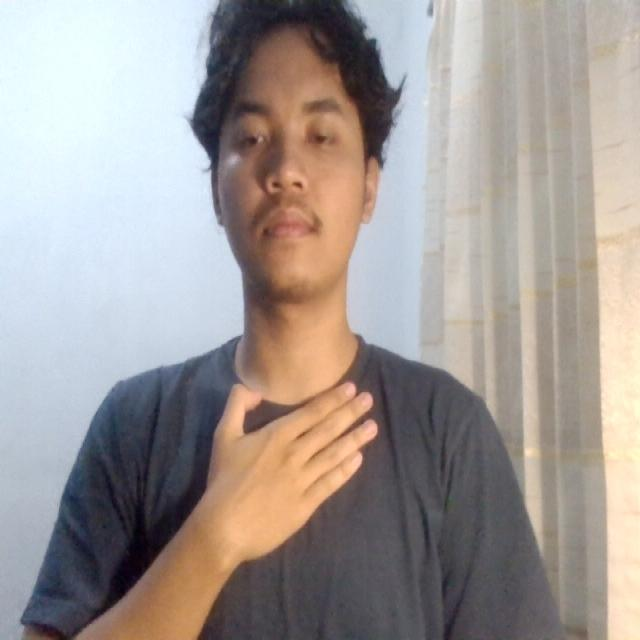Nama: (194, 356, 397, 565)
